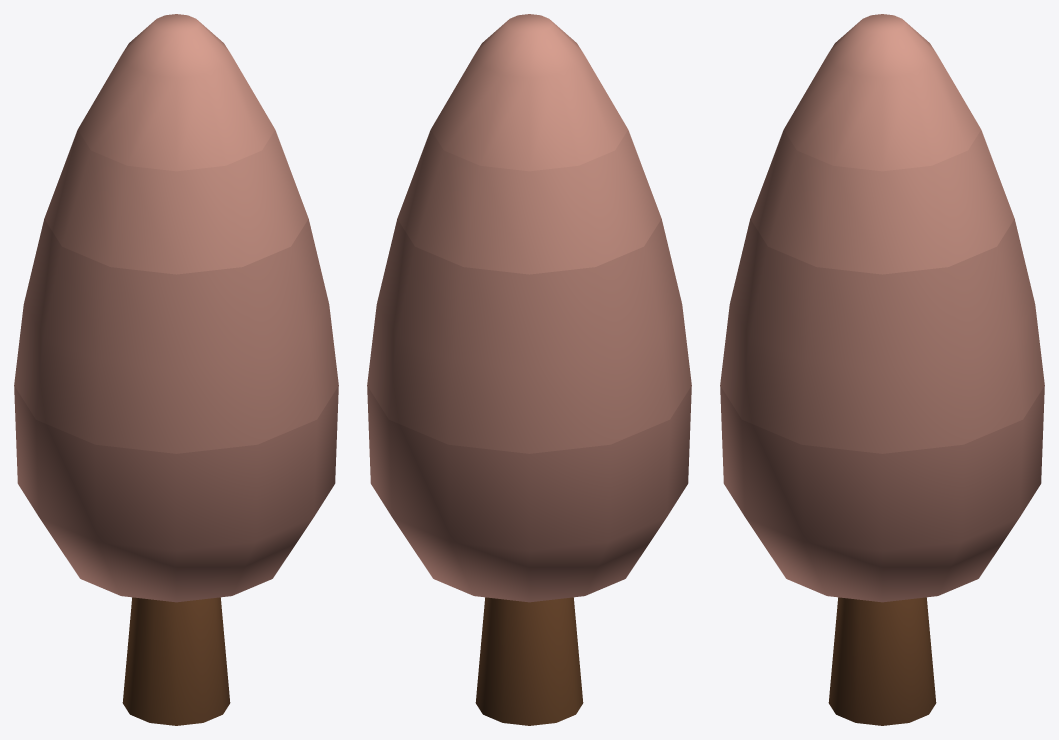
Rendered from Tree03.fbx.
3 views of the same model, side by side, from view 1: azimuth 30°, elevation 25°; view 2: azimuth 150°, elevation 25°; view 3: azimuth 270°, elevation 25° (orthographic).
Parts seen in each view (by area): view 1: Cylinder.012; view 2: Cylinder.012; view 3: Cylinder.012.
Boxes of the visible parts, x1,y1,x2,y2 form: Cylinder.012: [14, 14, 338, 725]; Cylinder.012: [367, 14, 691, 725]; Cylinder.012: [720, 14, 1044, 725].
Bounding box in the file's own units: 2.17 × 2.17 × 5.02.
